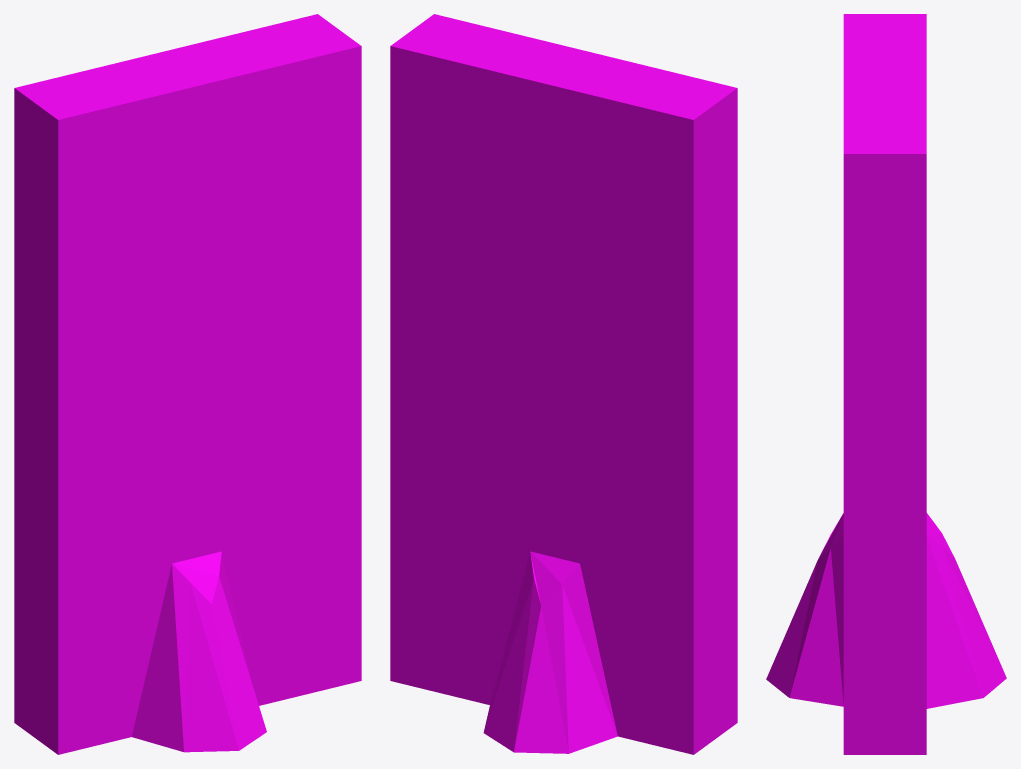
The model's file is magearena wall.obj.
3 views of the same model, side by side, from view 1: azimuth 30°, elevation 25°; view 2: azimuth 150°, elevation 25°; view 3: azimuth 270°, elevation 25° (orthographic). The views are drawn at different scales.
Visible parts, largest first — view 1: magearena wall_back; view 2: magearena wall_back; view 3: magearena wall_back.
Boxes of the visible parts, bbox=[...] form: magearena wall_back: bbox=[14, 14, 361, 754]; magearena wall_back: bbox=[390, 14, 737, 754]; magearena wall_back: bbox=[766, 14, 1006, 754].
Size of the model in its own units: 1.28 by 2.56 by 0.93.
